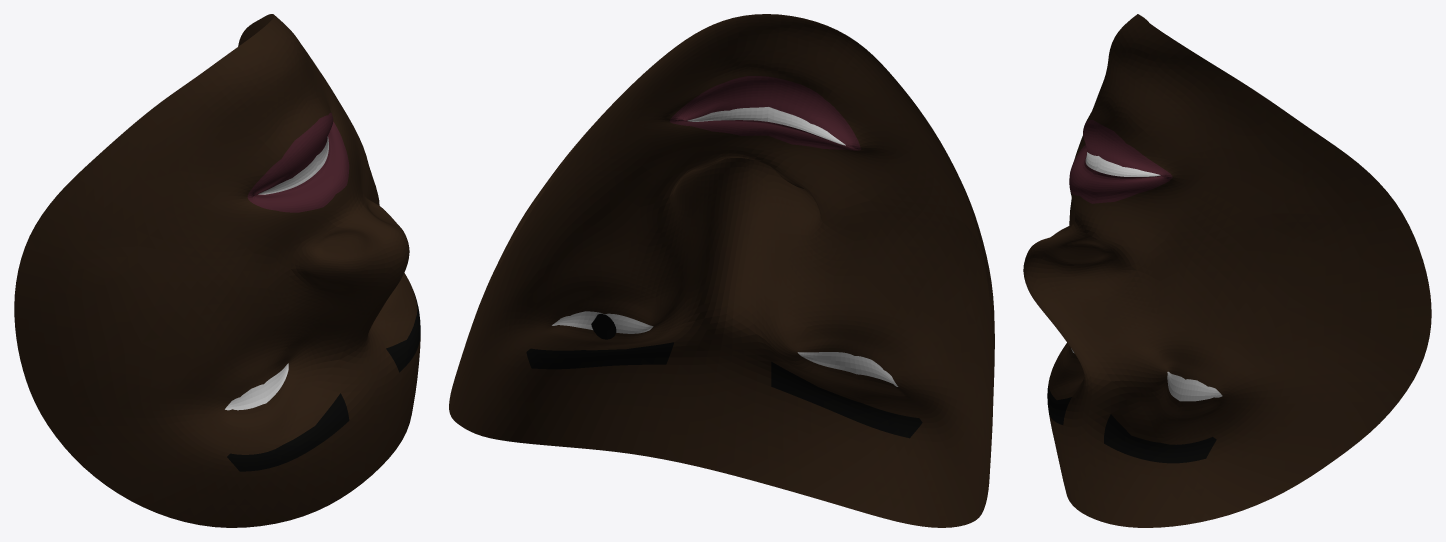
Rendered from frame_00046.obj.
The picture shows the model from 3 angles, left to right: view 1: azimuth 30°, elevation 25°; view 2: azimuth 150°, elevation 25°; view 3: azimuth 270°, elevation 25°; orthographic projection. The views are drawn at different scales.
Parts seen in each view (by area): view 1: face_mesh_subdivided; view 2: face_mesh_subdivided; view 3: face_mesh_subdivided.
Part boxes in pixels (left/top/right/bottom): face_mesh_subdivided: left=14, top=14, right=420, bottom=527; face_mesh_subdivided: left=449, top=14, right=994, bottom=527; face_mesh_subdivided: left=1023, top=14, right=1431, bottom=527.
Size of the model in its own units: 0.4883 by 0.5238 by 0.42.
